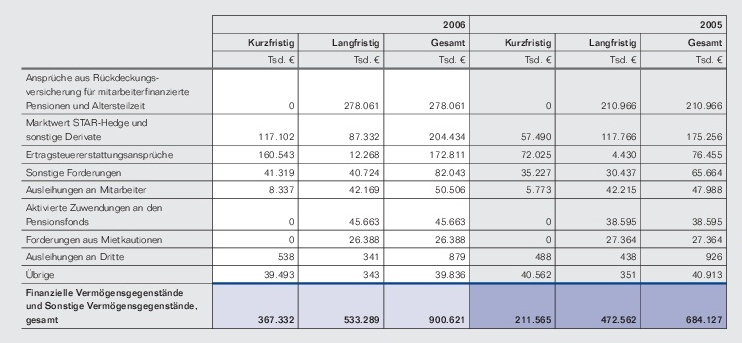table: (0, 0, 742, 343)
